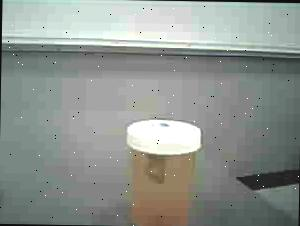Bottle B: (121, 117, 203, 226)
